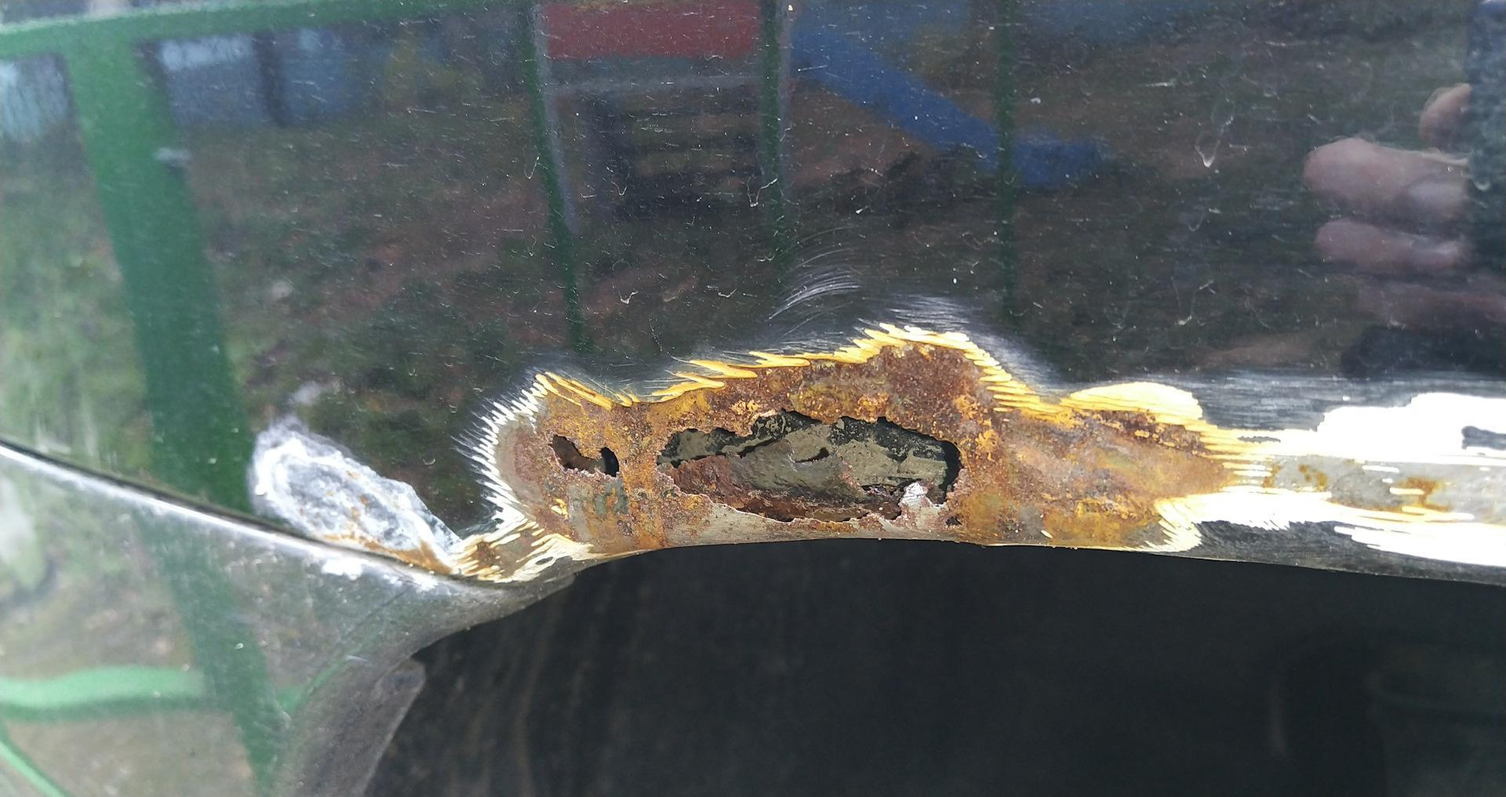corrosion: (454, 324, 1260, 580), (315, 523, 460, 575)
